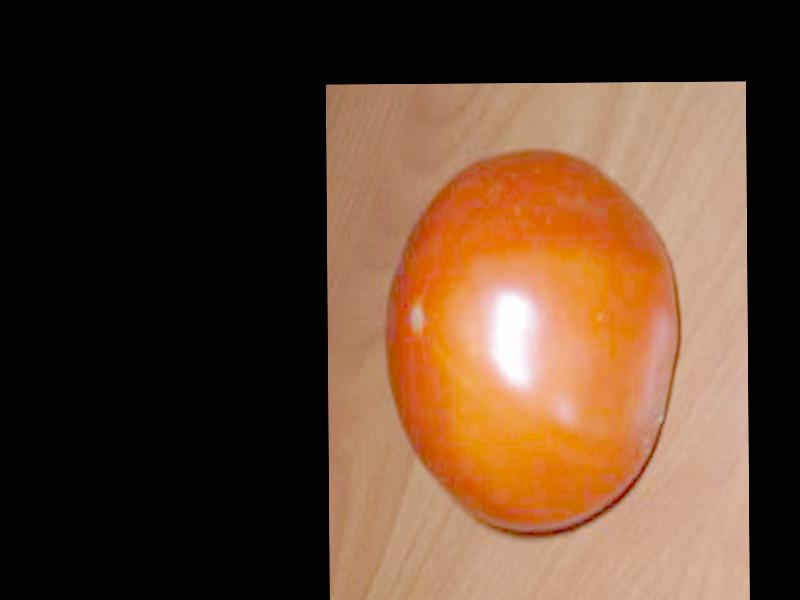Tomato: (382, 144, 679, 538)
